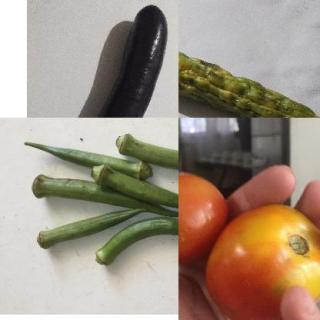Tomat: (179, 152, 320, 319)
